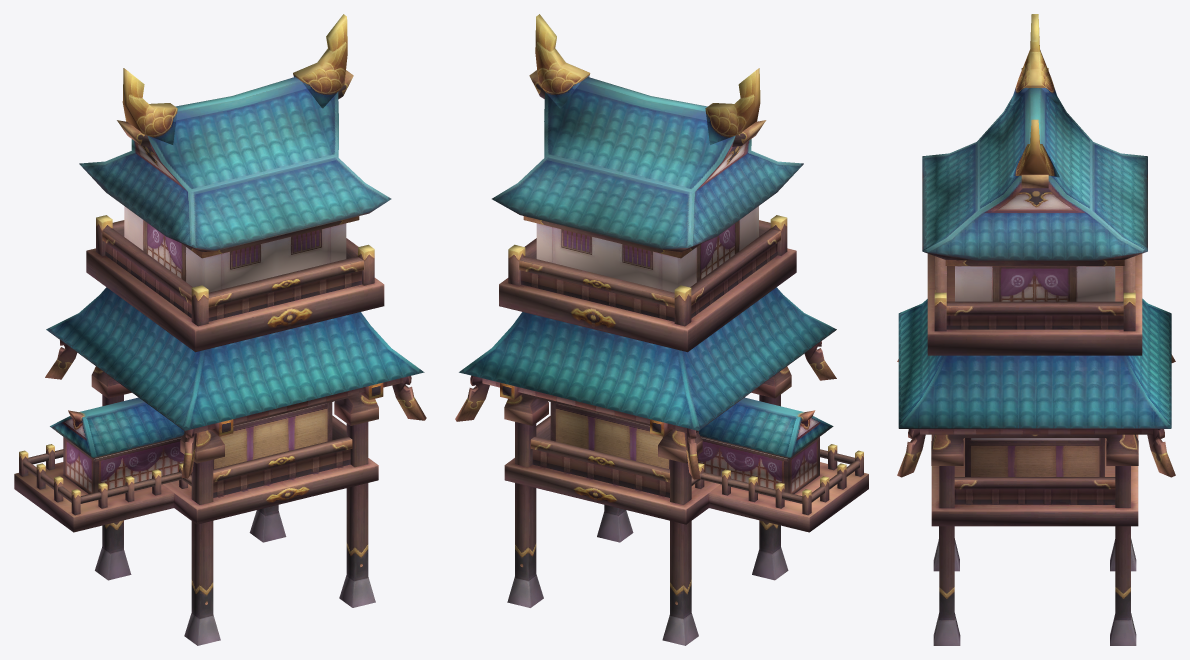
The picture shows the model from 3 angles, left to right: view 1: azimuth 30°, elevation 25°; view 2: azimuth 150°, elevation 25°; view 3: azimuth 270°, elevation 25°; orthographic projection.
Visible parts, largest first — view 1: element3ds.com-UB252; view 2: element3ds.com-UB252; view 3: element3ds.com-UB252.
Part boxes in pixels (x1=…): element3ds.com-UB252: x1=14, y1=14, x2=426, y2=645; element3ds.com-UB252: x1=455, y1=14, x2=868, y2=645; element3ds.com-UB252: x1=897, y1=14, x2=1175, y2=645.
Size of the model in its own units: 21.68 by 35.8 by 16.87.
